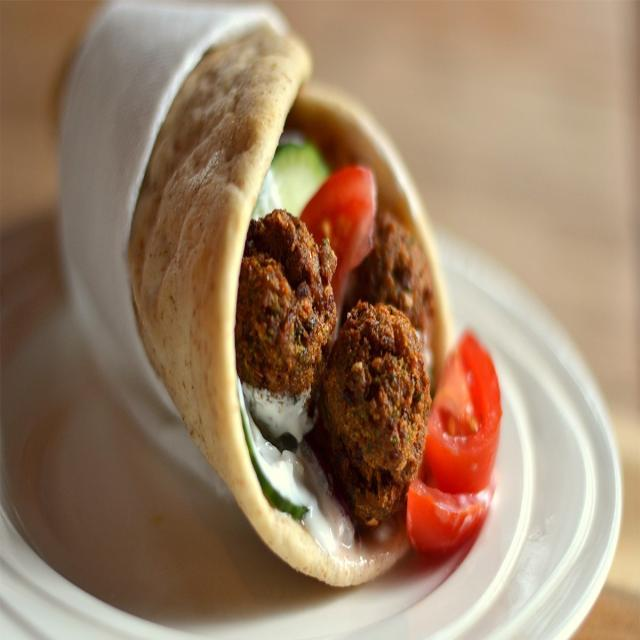flafel: (332, 303, 430, 527), (240, 210, 340, 398)
